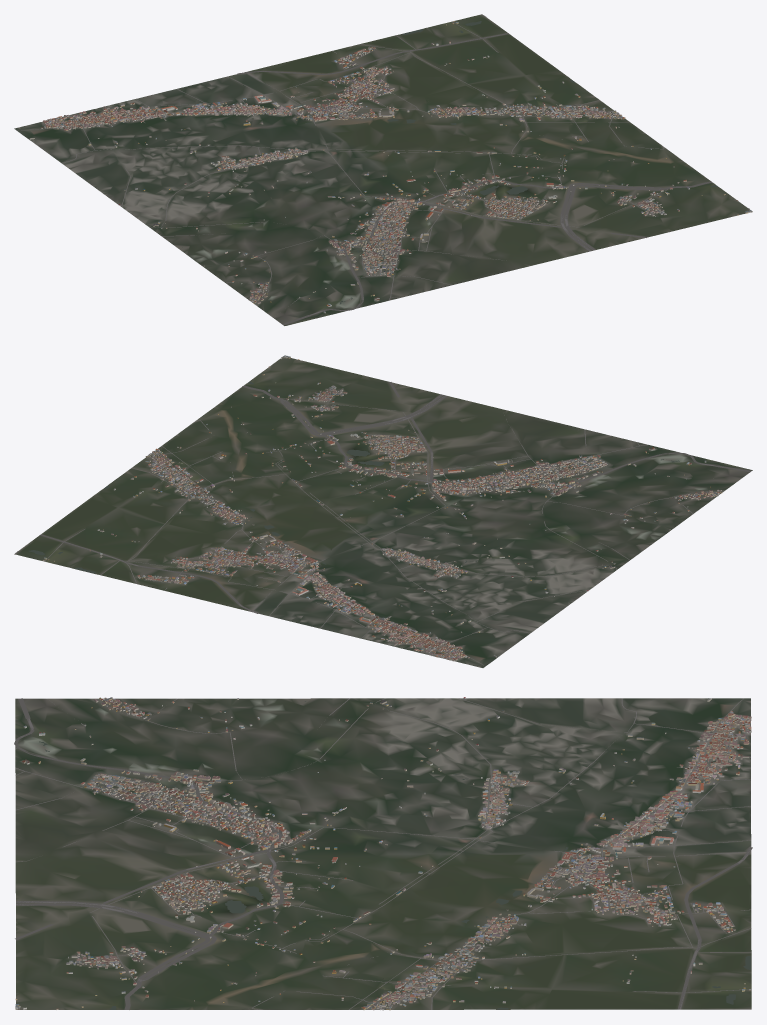
3 renders of one model, top to bottom at view 1: azimuth 30°, elevation 25°; view 2: azimuth 150°, elevation 25°; view 3: azimuth 270°, elevation 25°, orthographic. The views are drawn at different scales.
Visible parts, largest first — view 1: ground, buildings, roads; view 2: ground, buildings, roads; view 3: ground, buildings, roads, water.
Part boxes in pixels (x1,y1,x2,y2): ground: [14, 14, 749, 325]; buildings: [29, 20, 752, 313]; roads: [17, 14, 712, 325]; ground: [14, 357, 752, 667]; buildings: [42, 355, 722, 661]; roads: [14, 382, 751, 665]; ground: [15, 698, 751, 1009]; buildings: [15, 697, 751, 1010]; roads: [14, 698, 752, 1009]; water: [39, 701, 751, 1009].
Size of the model in its own units: 2814 by 27.34 by 2817.
